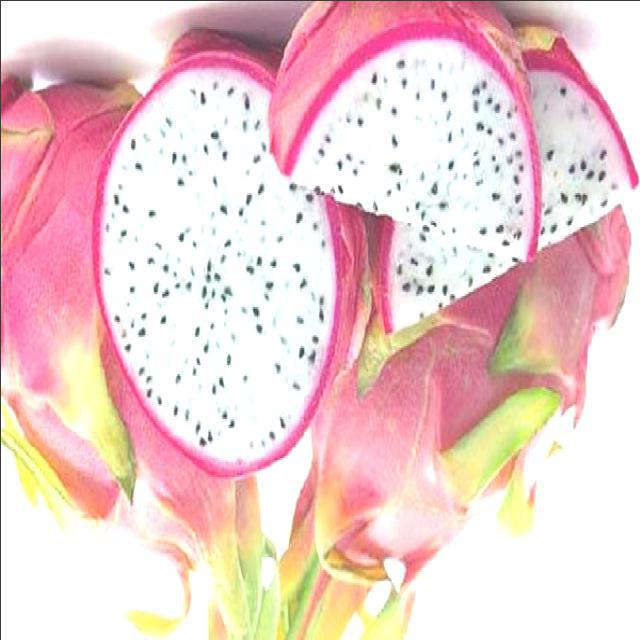trang: (1, 69, 292, 639), (281, 175, 636, 639), (89, 38, 368, 470), (376, 23, 639, 341), (268, 2, 538, 262)
